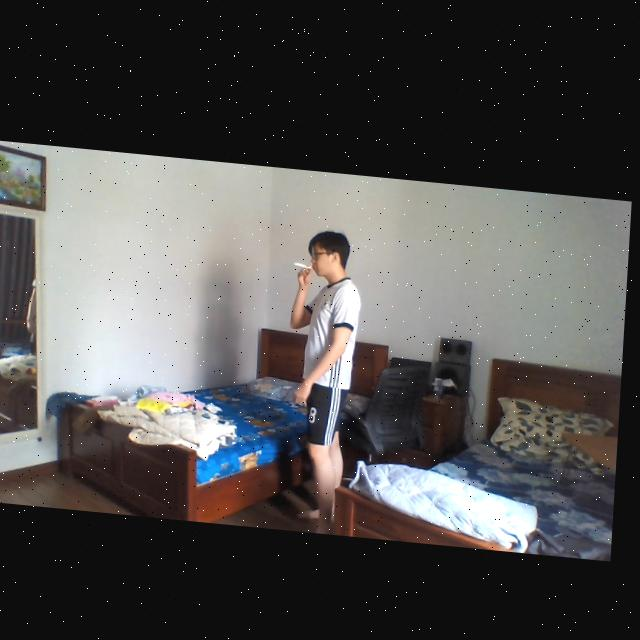cigarette: (297, 255, 317, 263)
